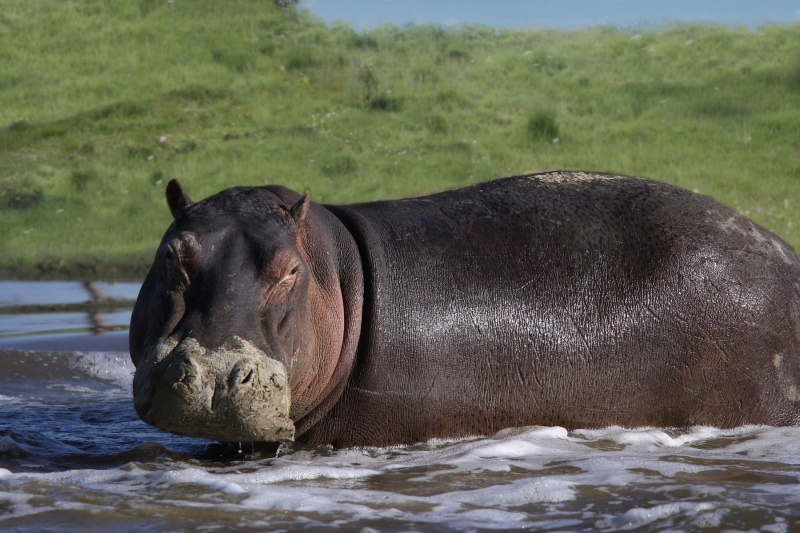hipopotamo: (122, 168, 800, 447)
